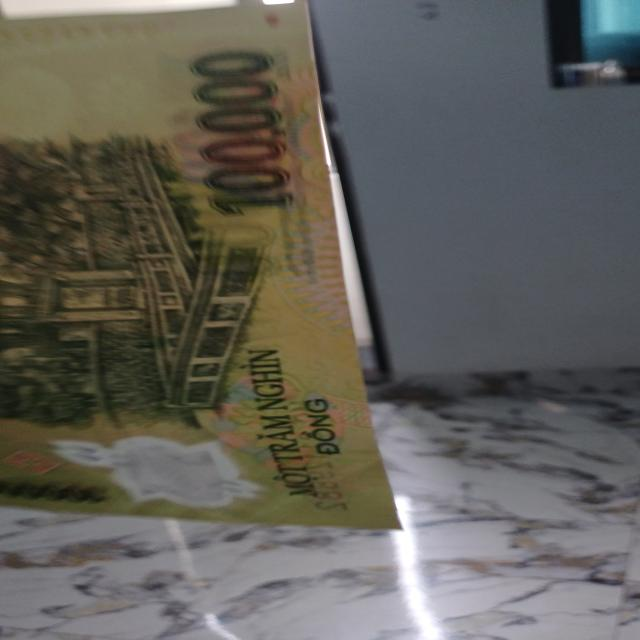100 000 VND: (5, 0, 408, 540)
